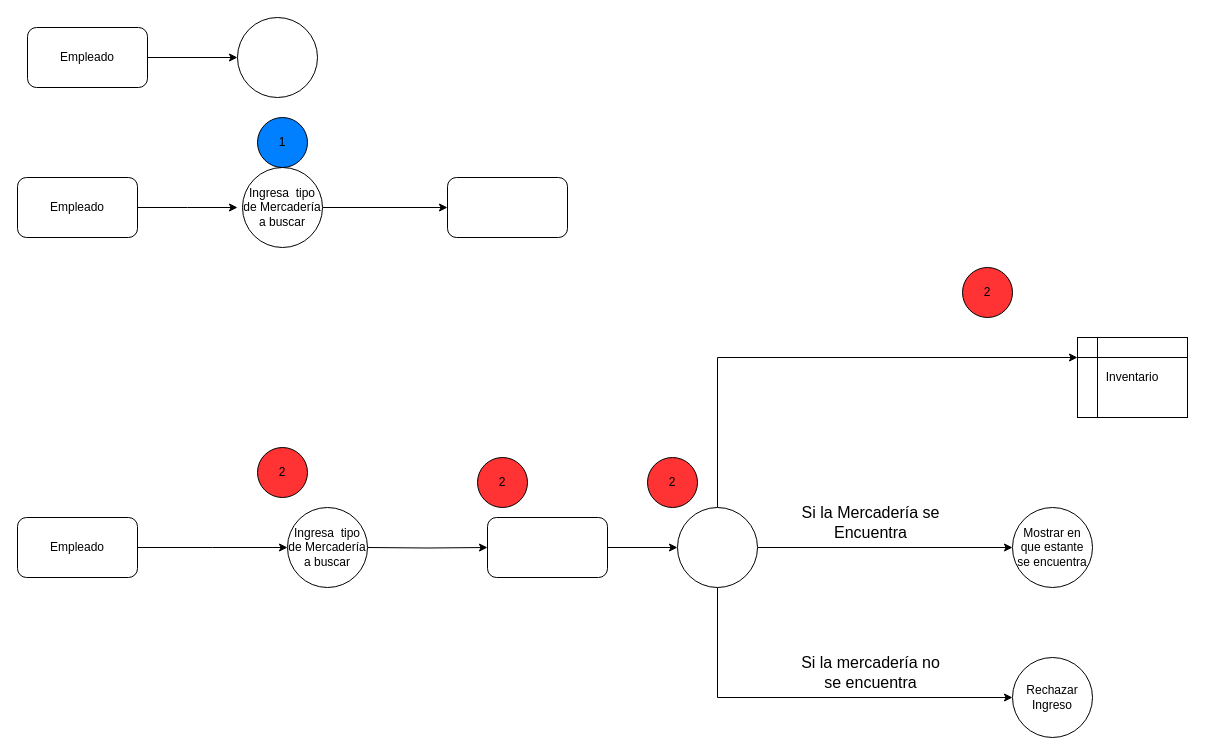
Some shapes in this 1205 by 755 pixel diagram are drawn without their labels. Here are the shapes that lost their labels. From the top down, the box of each, then its label:
(236, 16, 318, 98): Sistema Gestor Deposito
(446, 176, 568, 238): Sistena
(486, 516, 608, 578): Sistema gestor
(676, 506, 758, 588): Lectura Inventario
